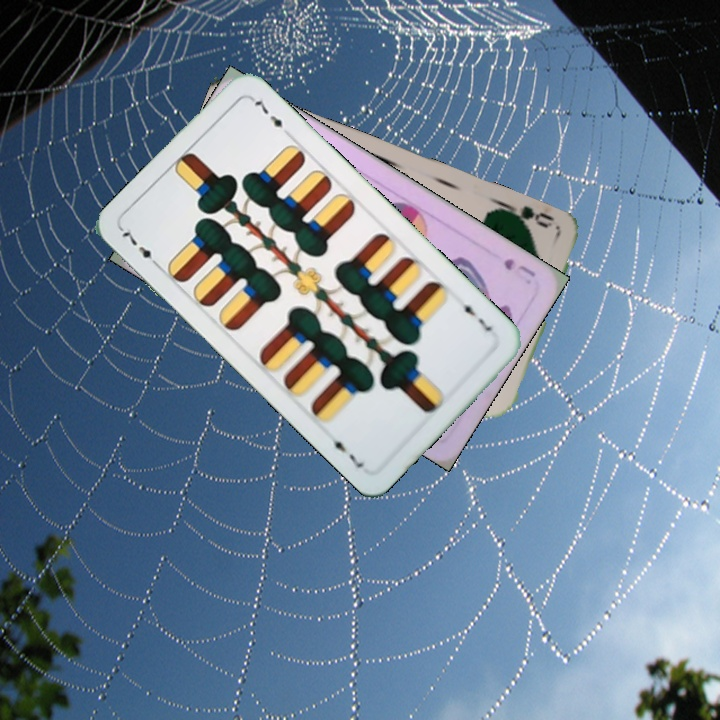E7: (117, 225, 164, 272), (456, 294, 495, 335)
GO: (499, 200, 557, 233)
SU: (499, 254, 538, 280)
